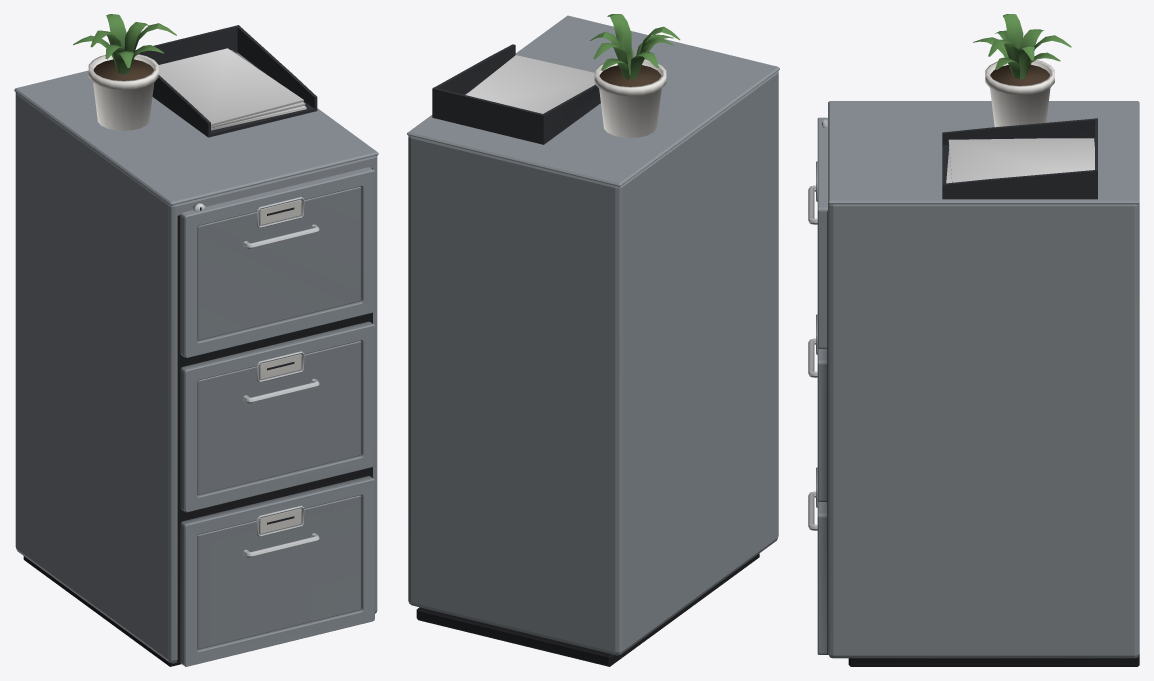
File: filingCabinet.glb
The picture shows the model from 3 angles, left to right: view 1: azimuth 30°, elevation 25°; view 2: azimuth 150°, elevation 25°; view 3: azimuth 270°, elevation 25°; orthographic projection. The views are drawn at different scales.
Visible parts, largest first — view 1: filingCabinet, drawer; view 2: filingCabinet; view 3: filingCabinet, drawer.
Part boxes in pixels (<box>): filingCabinet: <box>14,14,378,666</box>; drawer: <box>180,167,374,357</box>; filingCabinet: <box>407,14,779,666</box>; filingCabinet: <box>808,14,1139,666</box>; drawer: <box>808,117,827,348</box>.
Size of the model in its own units: 0.46 by 1.21 by 0.638.
